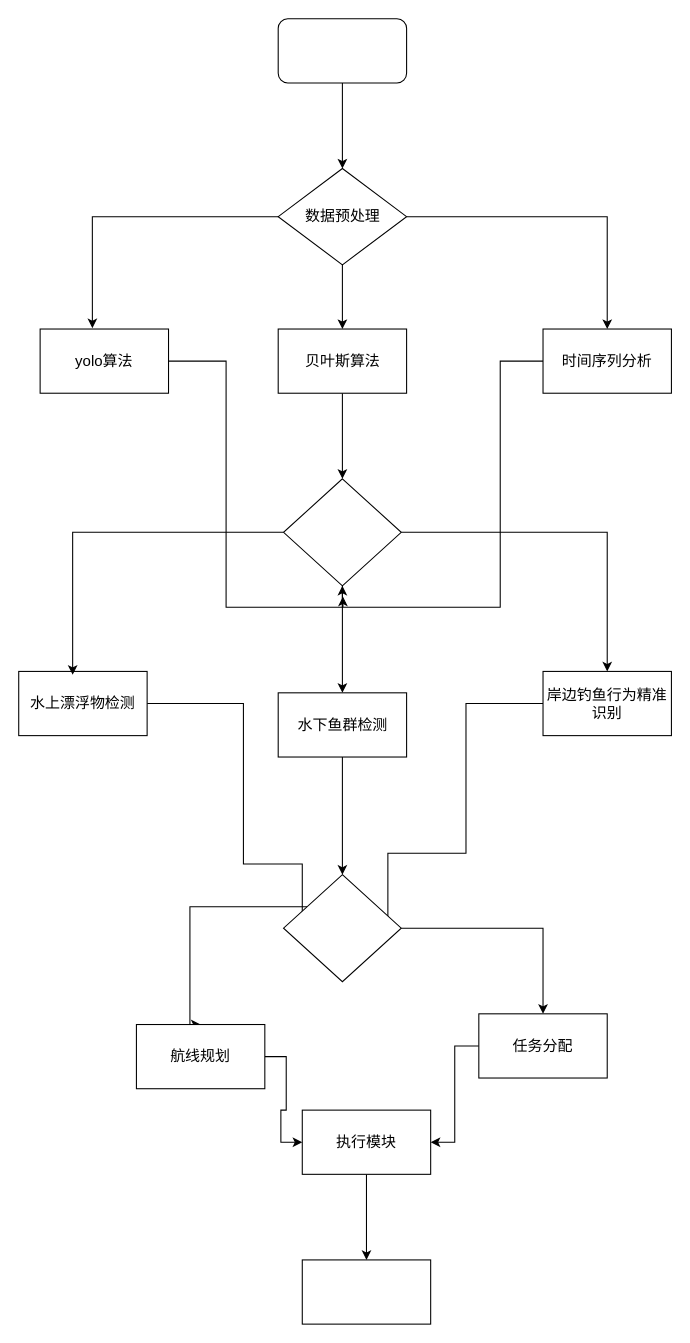
This 690x1343 diagram has some shape labels left out. The box of each missing label's shape, as (x1, y1, x2, y2) in pixels:
决策融合模块: (282, 874, 401, 982)
无人船系统: (301, 1259, 431, 1324)
目标检测与分类: (282, 478, 401, 586)
输入多传感器数据: (277, 18, 407, 83)
